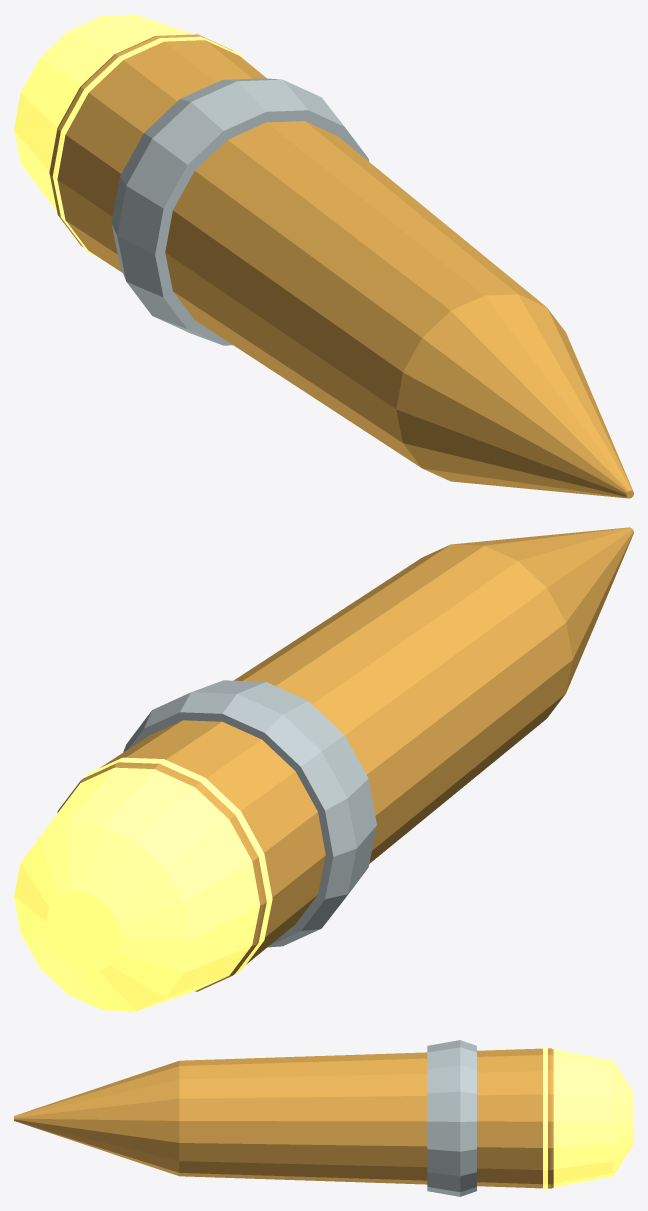
File: cannon.glb
3 renders of one model, top to bottom at view 1: azimuth 30°, elevation 25°; view 2: azimuth 150°, elevation 25°; view 3: azimuth 270°, elevation 25°, orthographic. The views are drawn at different scales.
Visible parts, largest first — view 1: cannon / body / cannon identity shell, cannon / body / Brushed silver ceramic, cannon / body / cannon identity light; view 2: cannon / body / cannon identity shell, cannon / body / cannon identity light, cannon / body / Brushed silver ceramic; view 3: cannon / body / cannon identity shell, cannon / body / cannon identity light, cannon / body / Brushed silver ceramic.
Boxes of the visible parts, left/top/right/bottom form: cannon / body / cannon identity shell: left=49, top=34, right=633, bottom=498; cannon / body / Brushed silver ceramic: left=111, top=78, right=369, bottom=345; cannon / body / cannon identity light: left=14, top=14, right=244, bottom=257; cannon / body / cannon identity shell: left=57, top=527, right=633, bottom=991; cannon / body / cannon identity light: left=14, top=757, right=272, bottom=1011; cannon / body / Brushed silver ceramic: left=123, top=680, right=376, bottom=947; cannon / body / cannon identity shell: left=14, top=1048, right=553, bottom=1188; cannon / body / cannon identity light: left=543, top=1047, right=633, bottom=1189; cannon / body / Brushed silver ceramic: left=427, top=1040, right=476, bottom=1196.
Size of the model in its own units: 3.8 by 3.8 by 15.
